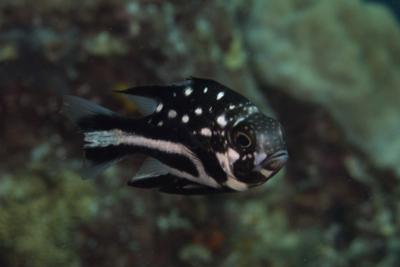Lutjanidae -Snappers-: (57, 72, 292, 197)
